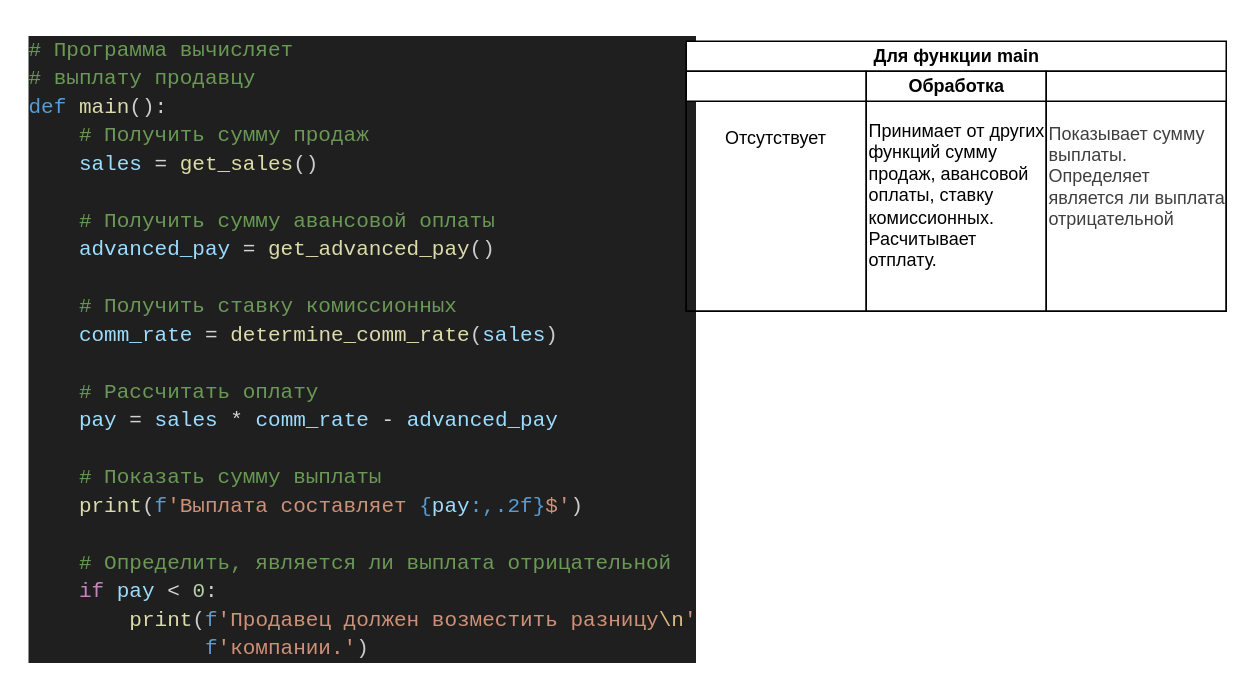
The diagram is 1253 pixels wide and 689 high, and some of its shapes have lost their labels. Each missing label, with the box of its shape:
Ввод: (685, 70, 866, 311)
Вывод: (1045, 70, 1226, 311)
